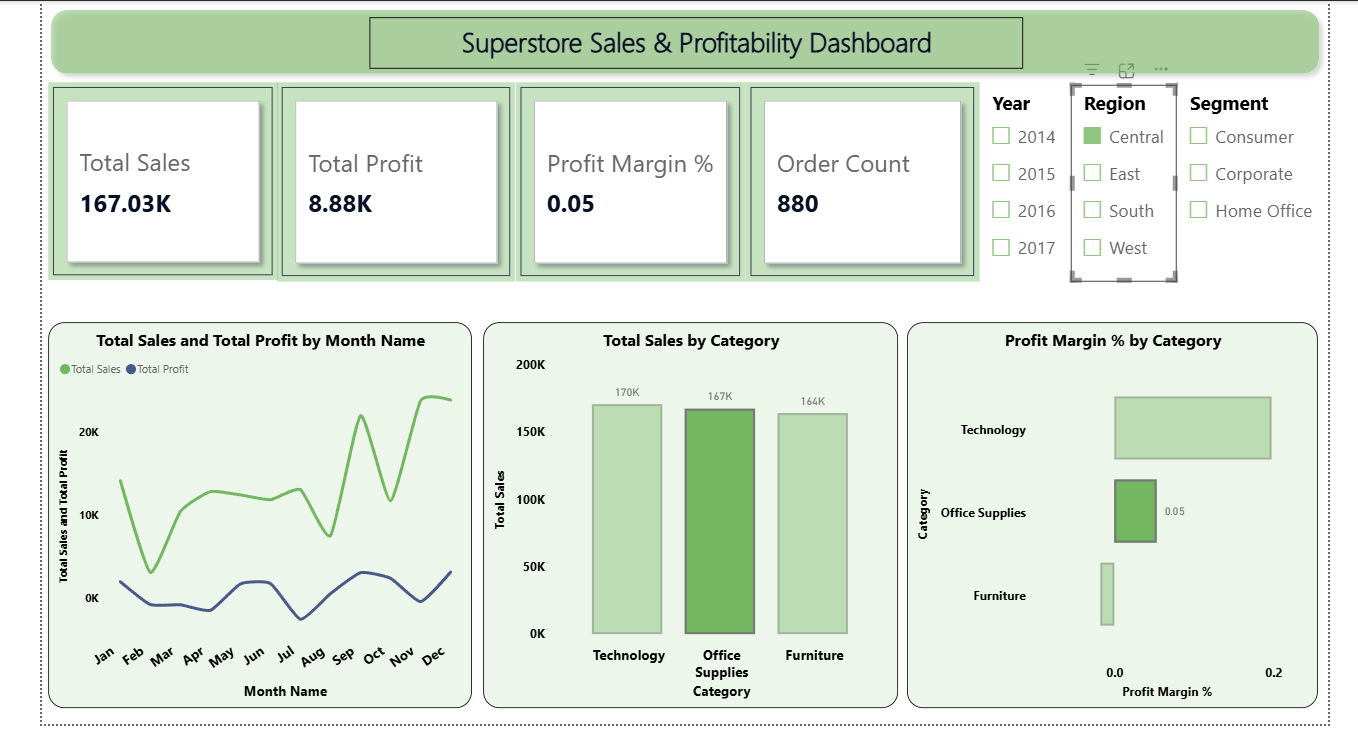

Layout of this report page (visuals, bound fields, positions):
{"tool":"powerbi","page":{"name":"Page 1","canvas":[1280,720],"ordinal":0},"visuals":[{"type":"cardVisual","fields":{"Data":["DateTable.Total Sales"]},"box":[5.7,81.4,228.6,197.1],"z":0},{"type":"shape","box":[0,0,1280,81.4],"z":1000,"group":"g1"},{"type":"cardVisual","fields":{"Data":["DateTable.Total Profit"]},"box":[234.3,81.4,237.1,198.6],"z":2000},{"type":"cardVisual","fields":{"Data":["DateTable.Profit Margin %"]},"box":[471.4,81.4,228.6,198.6],"z":3000},{"type":"cardVisual","fields":{"Data":["DateTable.Order Count"]},"box":[700,81.4,232.9,198.6],"z":4000},{"type":"lineChart","fields":{"Category":["DateTable.Month Name"],"Y":["DateTable.Total Sales","DateTable.Total Profit"]},"box":[6.2,320,421.2,383.8],"z":5000},{"type":"clusteredColumnChart","fields":{"Category":["Orders.Category"],"Y":["DateTable.Total Sales"]},"box":[438.8,320,412.5,383.8],"z":6000},{"type":"clusteredBarChart","fields":{"Category":["Orders.Category"],"Y":["DateTable.Profit Margin %"]},"box":[861.4,320,408.6,384.3],"z":7000},{"type":"slicer","fields":{"Values":["DateTable.Year"]},"box":[932.9,82.9,91.4,197.1],"z":8000},{"type":"slicer","fields":{"Values":["Orders.Region"]},"box":[1024.3,82.9,105.7,197.1],"z":9000},{"type":"slicer","fields":{"Values":["Orders.Segment"]},"box":[1130,82.9,150,195.7],"z":10000},{"type":"textbox","box":[325.7,15.7,650,51.4],"z":11000,"group":"g1"},{"type":"group","id":"g1","title":"Group 1","box":[0,0,1280,81.4],"z":11001}]}

Visuals, with their boxes in screenshot pixels (x1, y1, x2, y2):
cardVisual - DateTable.Total Sales: left=45, top=82, right=274, bottom=279
shape: left=39, top=0, right=1322, bottom=82
cardVisual - DateTable.Total Profit: left=274, top=82, right=512, bottom=281
cardVisual - DateTable.Profit Margin %: left=512, top=82, right=741, bottom=281
cardVisual - DateTable.Order Count: left=741, top=82, right=974, bottom=281
lineChart - DateTable.Month Name x DateTable.Total Sales: left=45, top=321, right=467, bottom=706
clusteredColumnChart - Orders.Category x DateTable.Total Sales: left=479, top=321, right=892, bottom=706
clusteredBarChart - Orders.Category x DateTable.Profit Margin %: left=903, top=321, right=1312, bottom=706
slicer - DateTable.Year: left=974, top=83, right=1066, bottom=281
slicer - Orders.Region: left=1066, top=83, right=1172, bottom=281
slicer - Orders.Segment: left=1172, top=83, right=1322, bottom=279
textbox: left=365, top=16, right=1017, bottom=67
"Group 1" group: left=39, top=0, right=1322, bottom=82
